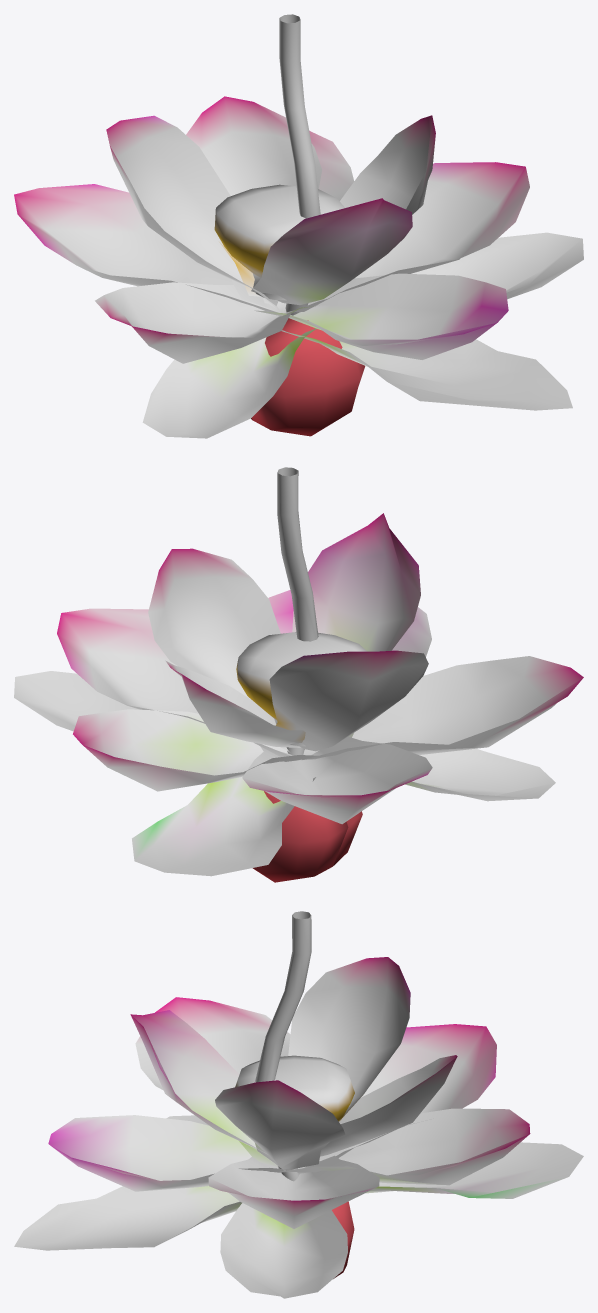
File: LotusBloomEnding.fbx
3 views of the same model, one above another, from view 1: azimuth 30°, elevation 25°; view 2: azimuth 150°, elevation 25°; view 3: azimuth 270°, elevation 25° (orthographic). The views are drawn at different scales.
Visible parts, largest first — view 1: Lotus, ShellPart, Stem; view 2: Lotus, ShellPart.001, Stem; view 3: Lotus, Stem, ShellPart.001.
Boxes of the visible parts, x1=… form: Lotus: x1=14, y1=96, x2=583, y2=438; ShellPart: x1=252, y1=318, x2=365, y2=436; Stem: x1=279, y1=14, x2=320, y2=315; Lotus: x1=14, y1=513, x2=583, y2=876; ShellPart.001: x1=252, y1=791, x2=348, y2=882; Stem: x1=277, y1=467, x2=318, y2=755; Lotus: x1=14, y1=957, x2=583, y2=1298; Stem: x1=255, y1=911, x2=311, y2=1181; ShellPart.001: x1=332, y1=1201, x2=354, y2=1278.
Size of the model in its own units: 251 by 189 by 266.
